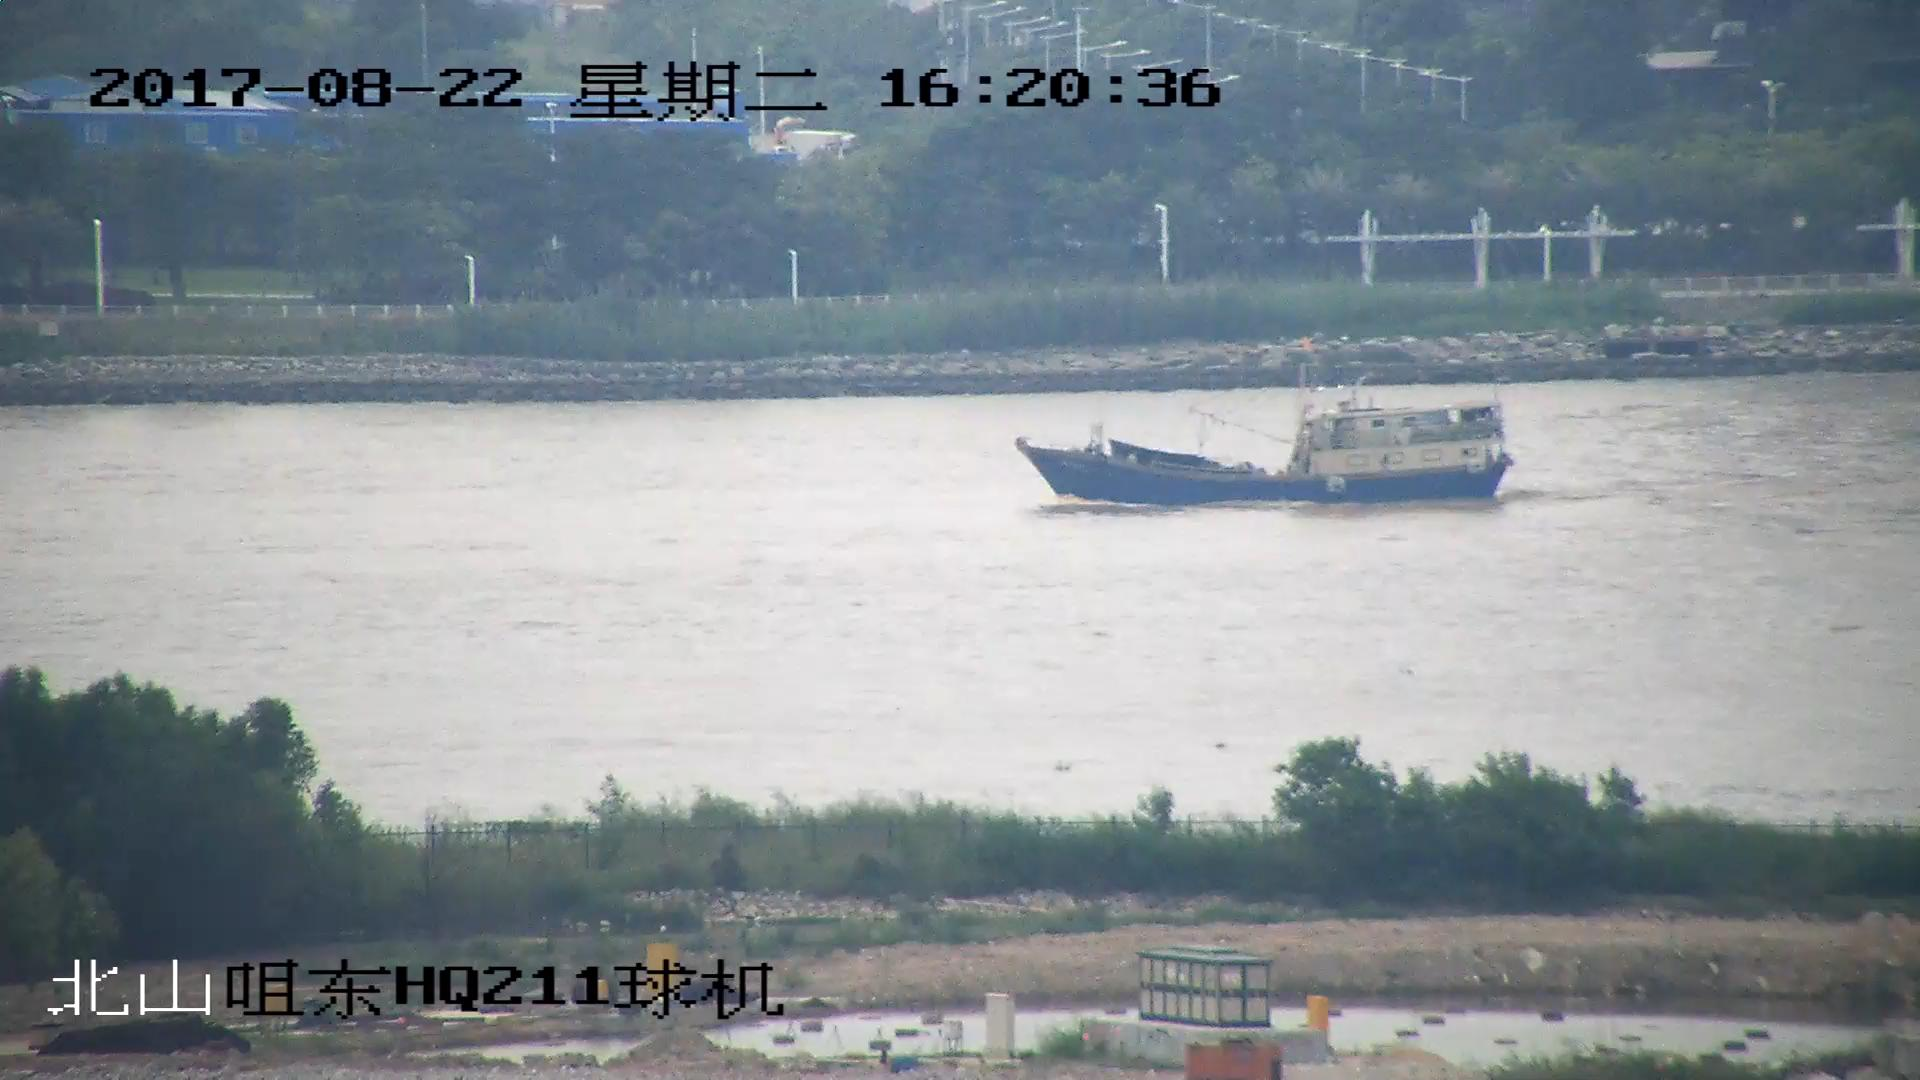fishing boat: (1023, 338, 1511, 510)
